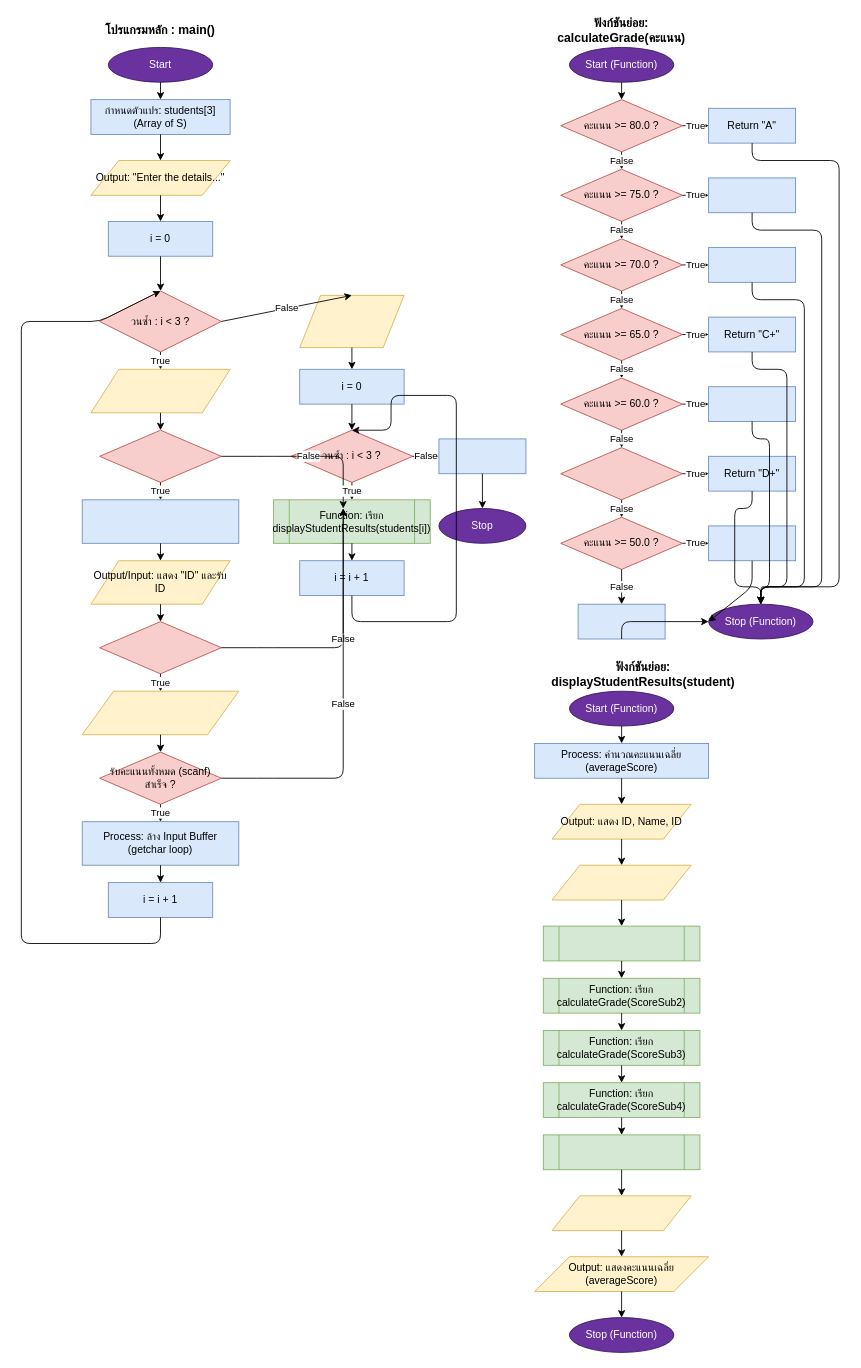
Image size: 861x1368. Some labels were removed from this diagram. The box of each missing label's shape, as (x1, y1, x2, y2) in pixels:
Function: เรียก calculateGrade(ScoreSub1): (542, 925, 700, 961)
Function: เรียก calculateGrade(ScoreSub5): (542, 1134, 700, 1170)
Output/Input: แสดง "Student i+1" และรับชื่อ (Name): (90, 368, 230, 413)
Output/Input: แสดง/รับคะแนนวิชา 1 ถึง 5 (ScoreSub1-5): (81, 690, 239, 735)
Output: แสดงคะแนน 5 วิชา: (551, 864, 691, 900)
Output: แสดงบรรทัดว่าง ('\n'): (299, 294, 404, 348)
Output: แสดงเกรด 5 วิชา: (551, 1195, 691, 1231)
Process: ลบอักขระขึ้นบรรทัดใหม่ ('\n') จาก Name: (81, 499, 239, 543)
Return "B": (708, 247, 796, 282)
Return "B+": (708, 177, 796, 213)
Return "C": (708, 386, 796, 422)
Return "D": (708, 525, 796, 561)
Return "F": (577, 603, 665, 639)
Return 0: (438, 438, 526, 474)
คะแนน >= 55.0 ?: (560, 447, 683, 500)
รับ ID (scanf) สำเร็จ ?: (99, 621, 221, 674)
รับชื่อ (fgets) สำเร็จ ?: (99, 429, 221, 482)
